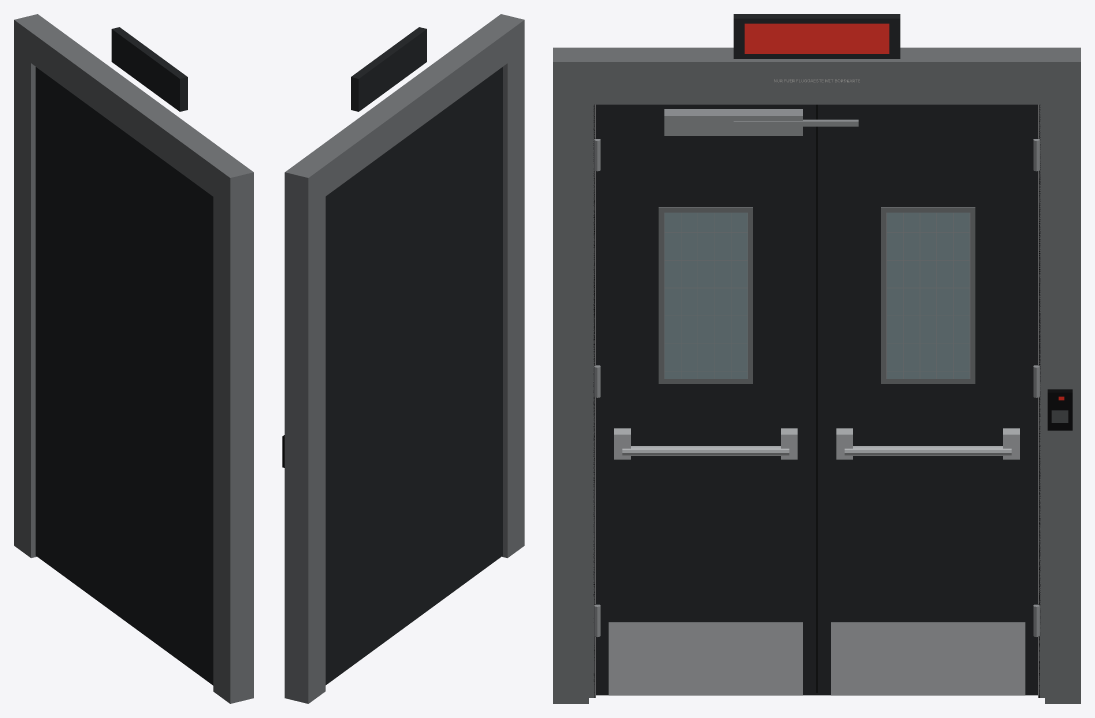
File: gate_door_closed.glb
3 views of the same model, side by side, from view 1: azimuth 30°, elevation 25°; view 2: azimuth 150°, elevation 25°; view 3: azimuth 270°, elevation 25° (orthographic). The views are drawn at different scales.
Visible parts, largest first — view 1: gatetuer_2, gatetuer_0; view 2: gatetuer_2, gatetuer_0; view 3: gatetuer_2, gatetuer_0, gatetuer_6, gatetuer_4, gatetuer_5, gatetuer_10, gatetuer_1, gatetuer_3, gatetuer_7.
Boxes of the visible parts, left/top/right/bottom form: gatetuer_2: left=35, top=27, right=213, bottom=685; gatetuer_0: left=14, top=14, right=253, bottom=703; gatetuer_2: left=325, top=27, right=502, bottom=684; gatetuer_0: left=284, top=14, right=524, bottom=703; gatetuer_2: left=596, top=14, right=1037, bottom=695; gatetuer_0: left=553, top=47, right=1080, bottom=703; gatetuer_6: left=608, top=428, right=1025, bottom=695; gatetuer_4: left=664, top=212, right=969, bottom=378; gatetuer_5: left=594, top=109, right=1039, bottom=636; gatetuer_10: left=744, top=23, right=889, bottom=53; gatetuer_1: left=593, top=104, right=1040, bottom=697; gatetuer_3: left=816, top=104, right=817, bottom=692; gatetuer_7: left=1047, top=389, right=1072, bottom=430.
Bounding box in the file's own units: 0.1605 × 2.74 × 1.9.
